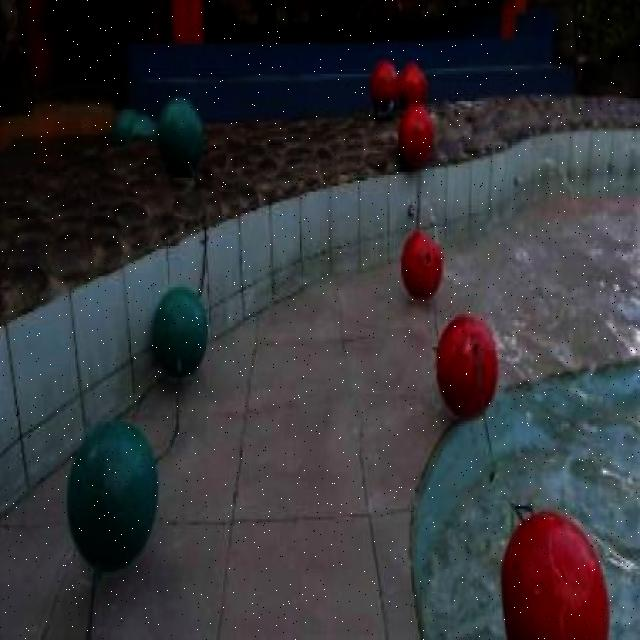buoy: (66, 421, 159, 575), (498, 511, 610, 638), (435, 312, 498, 416), (151, 284, 206, 377), (157, 94, 203, 173), (399, 231, 444, 299), (395, 101, 436, 166), (368, 59, 398, 105), (399, 59, 426, 105)
